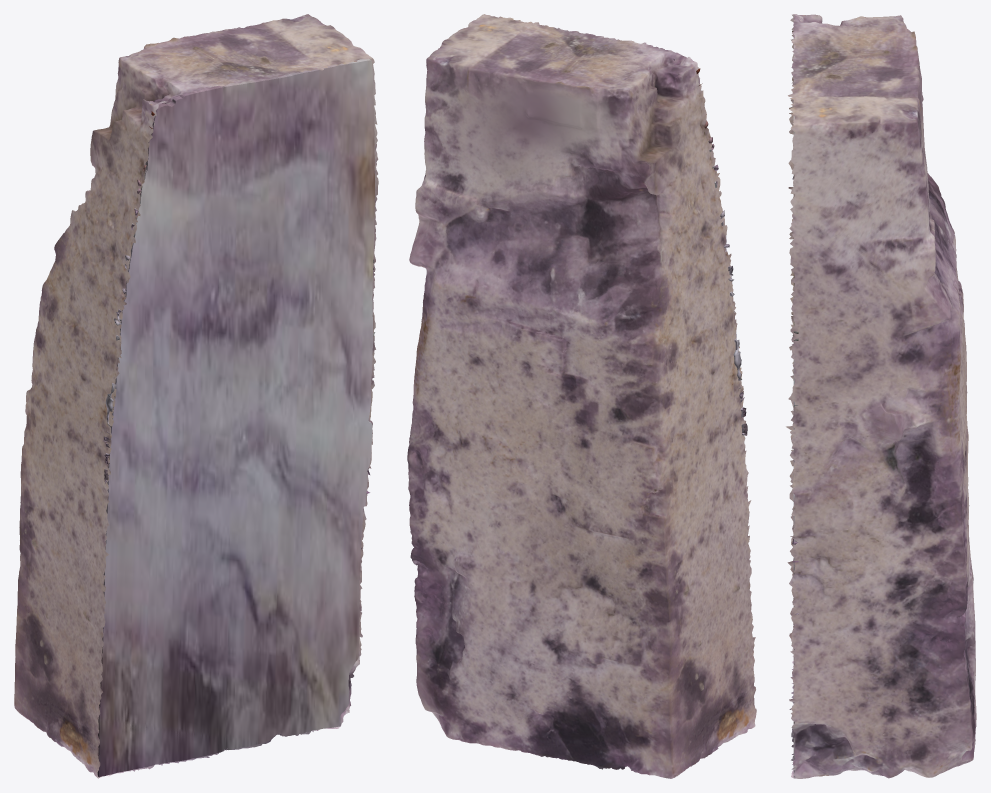
File: fluorite_part1.glb
The picture shows the model from 3 angles, left to right: view 1: azimuth 30°, elevation 25°; view 2: azimuth 150°, elevation 25°; view 3: azimuth 270°, elevation 25°; orthographic projection. The views are drawn at different scales.
Parts seen in each view (by area): view 1: Object_3; view 2: Object_3; view 3: Object_3.
Boxes of the visible parts, x1,y1,x2,y2 form: Object_3: [14, 14, 378, 778]; Object_3: [407, 14, 756, 778]; Object_3: [786, 14, 976, 778].
Bounding box in the file's own units: 16.86 × 37.97 × 9.67.
2 materials, 2 textured.
